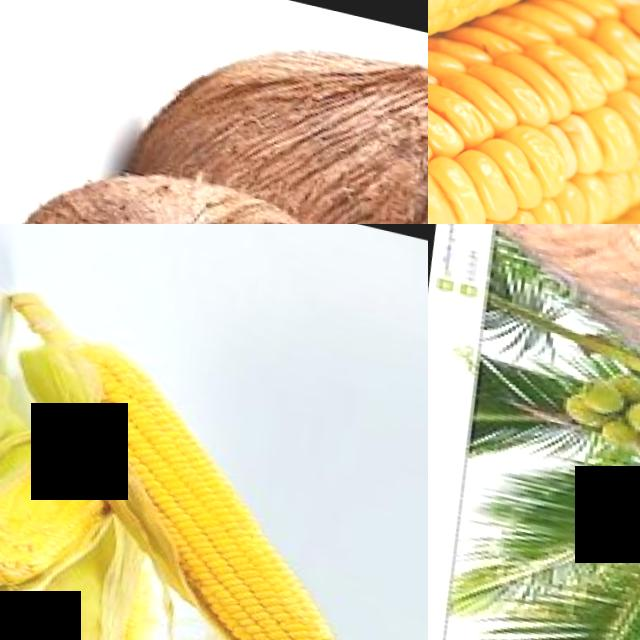coconut: (105, 0, 428, 224), (0, 130, 428, 224)
coconuts: (552, 357, 640, 465)
corn: (428, 0, 640, 224), (63, 336, 291, 542), (158, 522, 367, 640), (0, 435, 107, 582)
